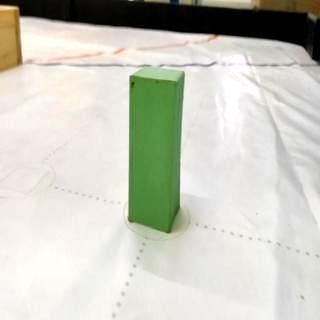greenbox: (126, 64, 186, 235)
